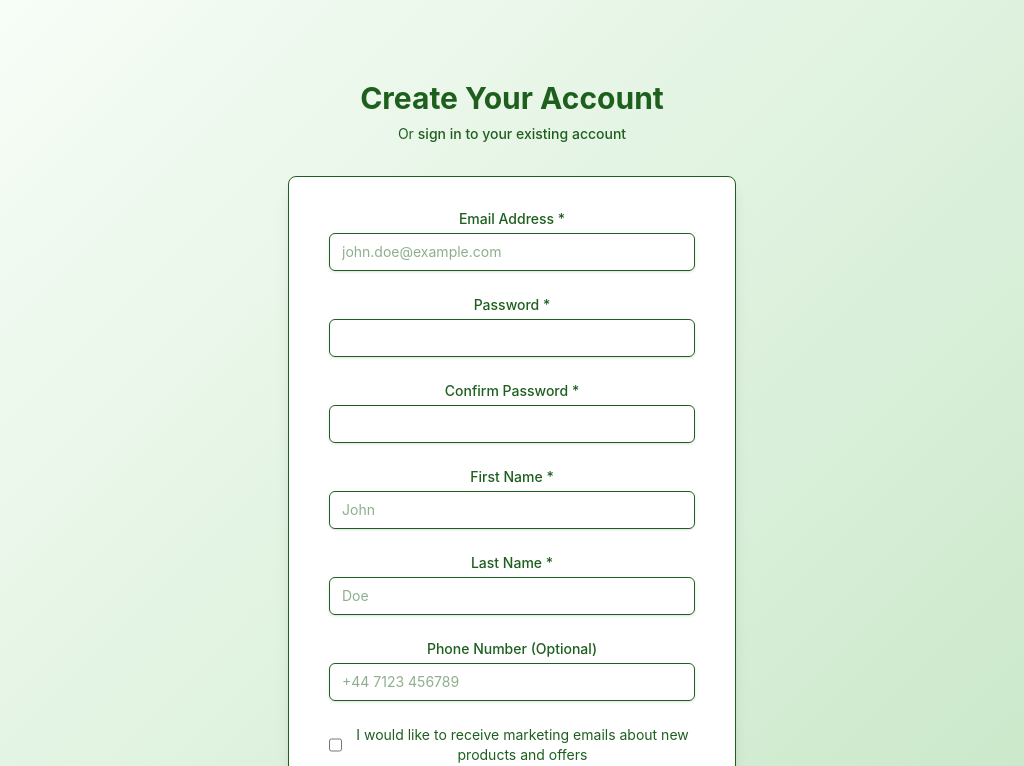
it: RegisterPage › Form Validation › should validate phone number format when provided
This screenshot has width=1024, height=766.
Type "invalid-phone" into the field labelled "Phone Number (Optional)" at (512, 682), box [329,663,695,701]
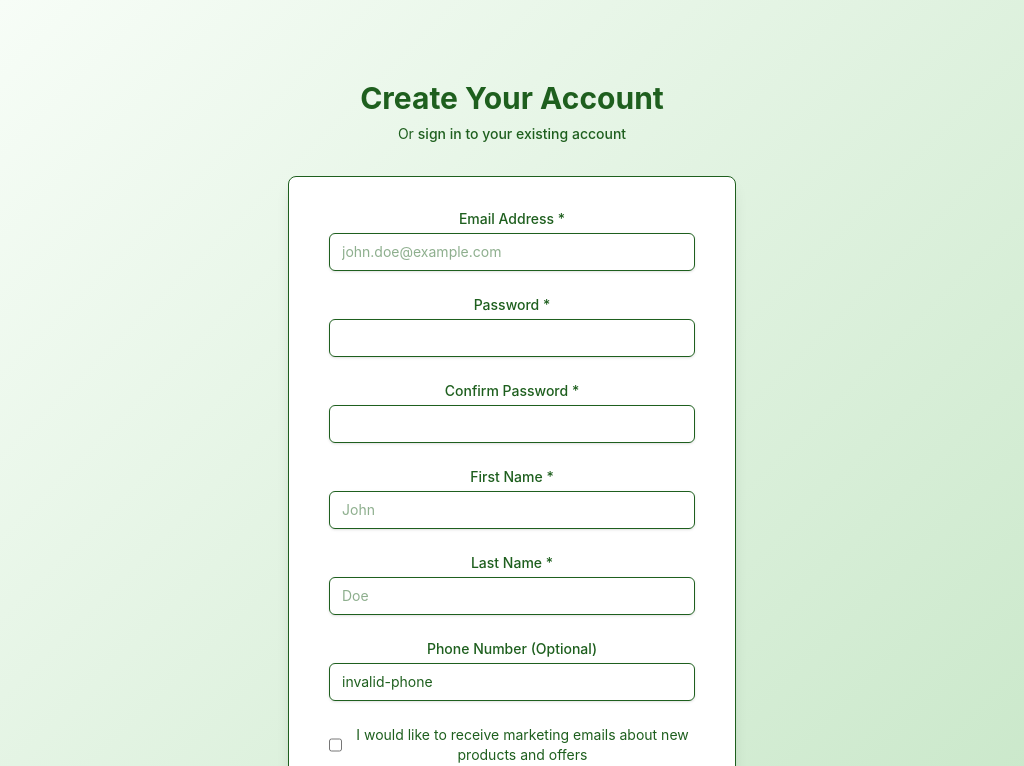
Press Tab
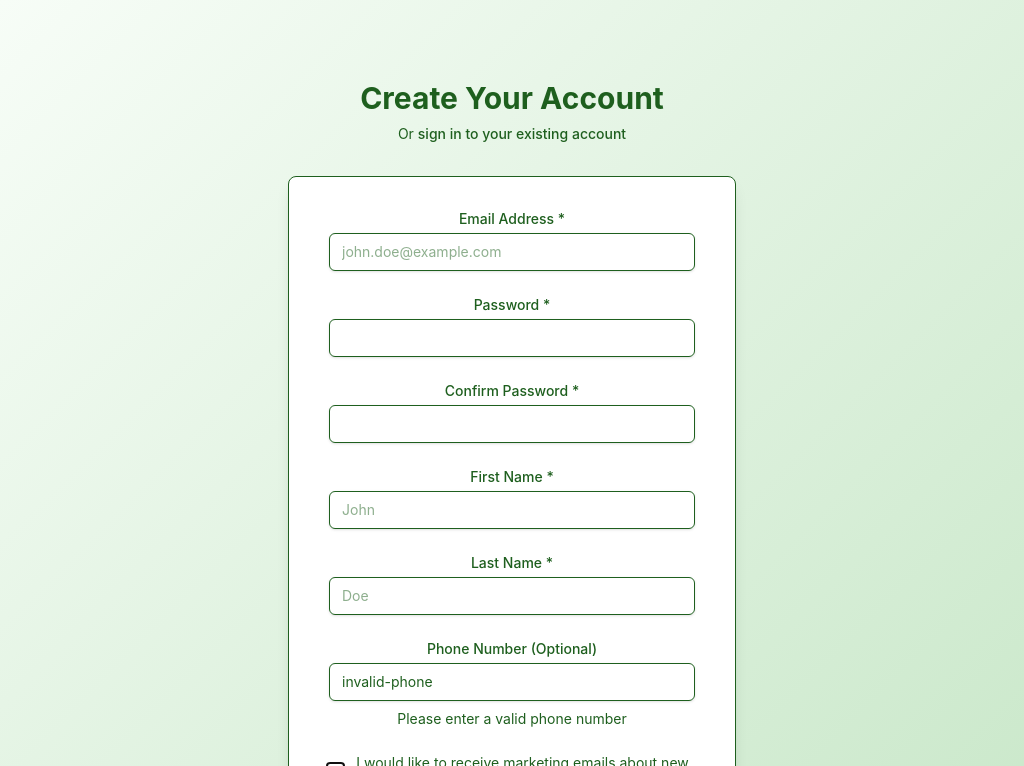
Expected: the text "Please enter a valid phone number" is shown, [397,710,627,727]
